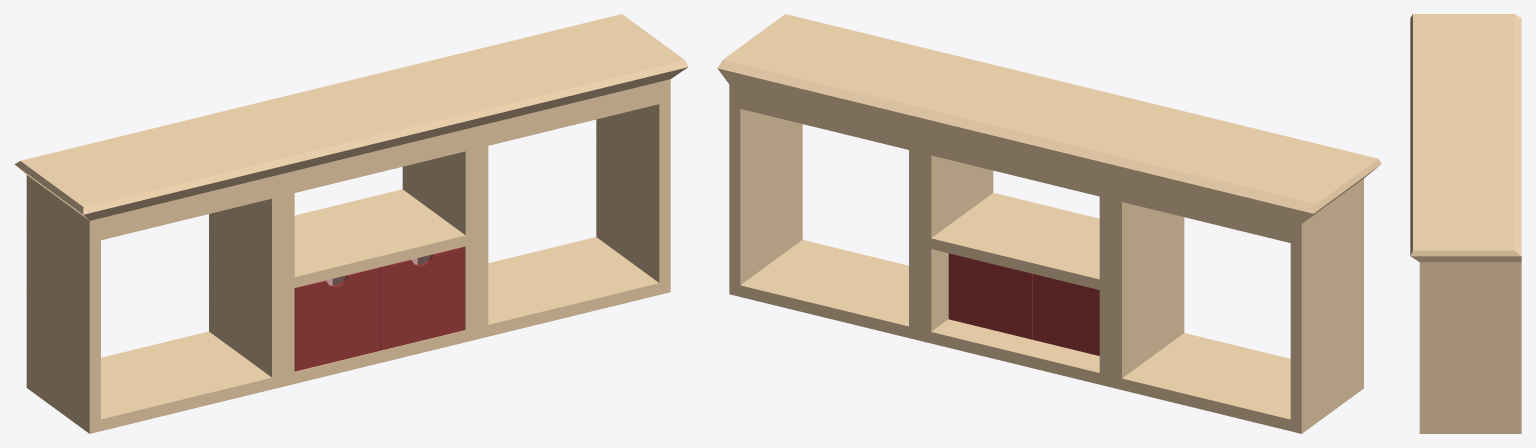
Rendered from Prop_WallShelf_02.fbx.
The picture shows the model from 3 angles, left to right: view 1: azimuth 30°, elevation 25°; view 2: azimuth 150°, elevation 25°; view 3: azimuth 270°, elevation 25°; orthographic projection. The views are drawn at different scales.
Parts seen in each view (by area): view 1: Prop_WallShelf_02; view 2: Prop_WallShelf_02; view 3: Prop_WallShelf_02.
Boxes of the visible parts, x1,y1,x2,y2 form: Prop_WallShelf_02: (14, 14, 688, 433); Prop_WallShelf_02: (717, 14, 1381, 433); Prop_WallShelf_02: (1410, 14, 1521, 433).
Size of the model in its own units: 78.71 by 28.89 by 15.53.
